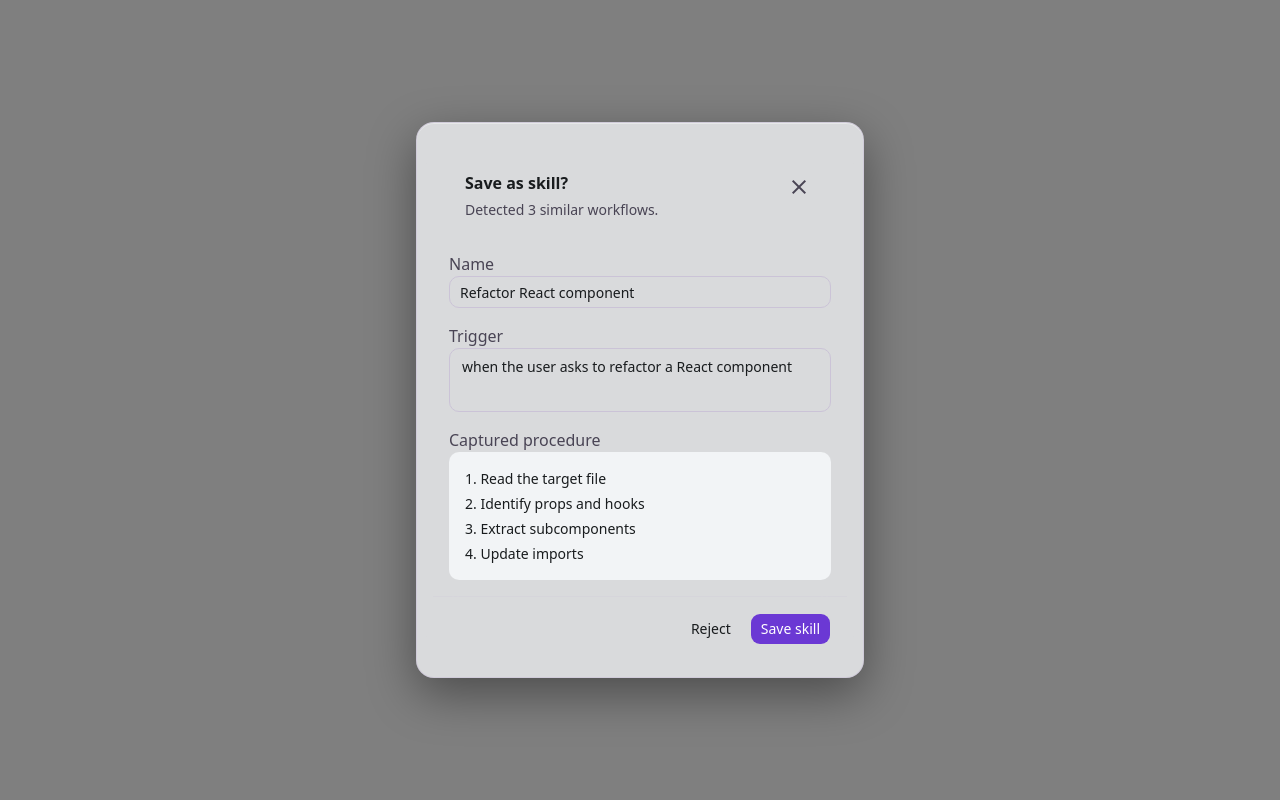
Test case: SkillApprovalModal › Approve button disabled when name is empty
Step 1. Clear the field showing "Refactor React component" → [640, 292], box x1=449 y1=276 x2=831 y2=308
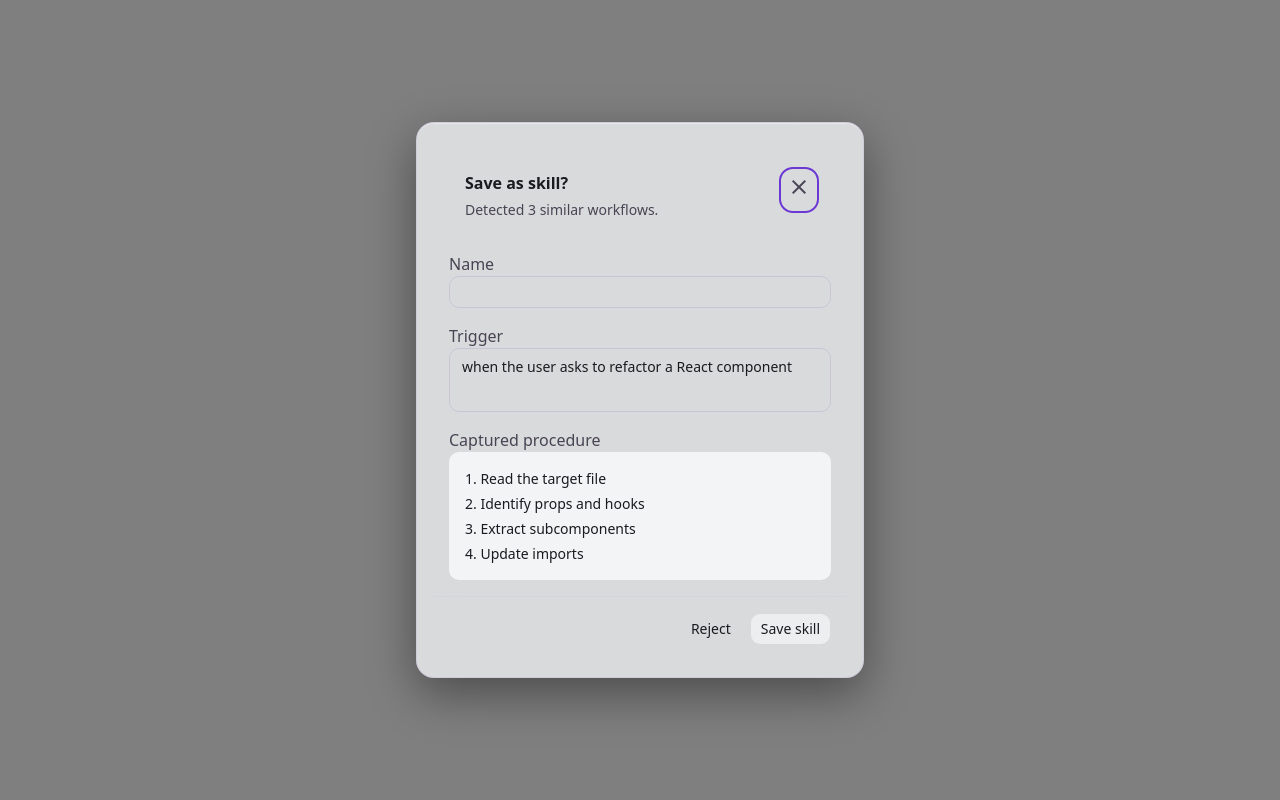
Check: the button "Save skill" is disabled, box x1=750 y1=613 x2=831 y2=645
